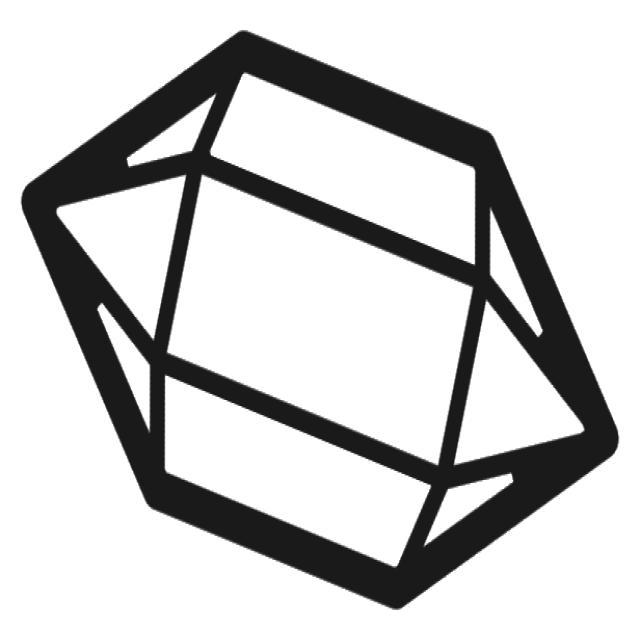crystal: (6, 22, 629, 623)
